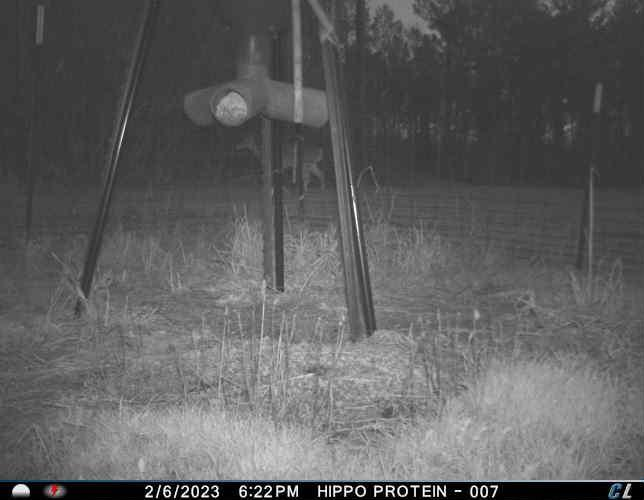Deer: (237, 134, 329, 198)
